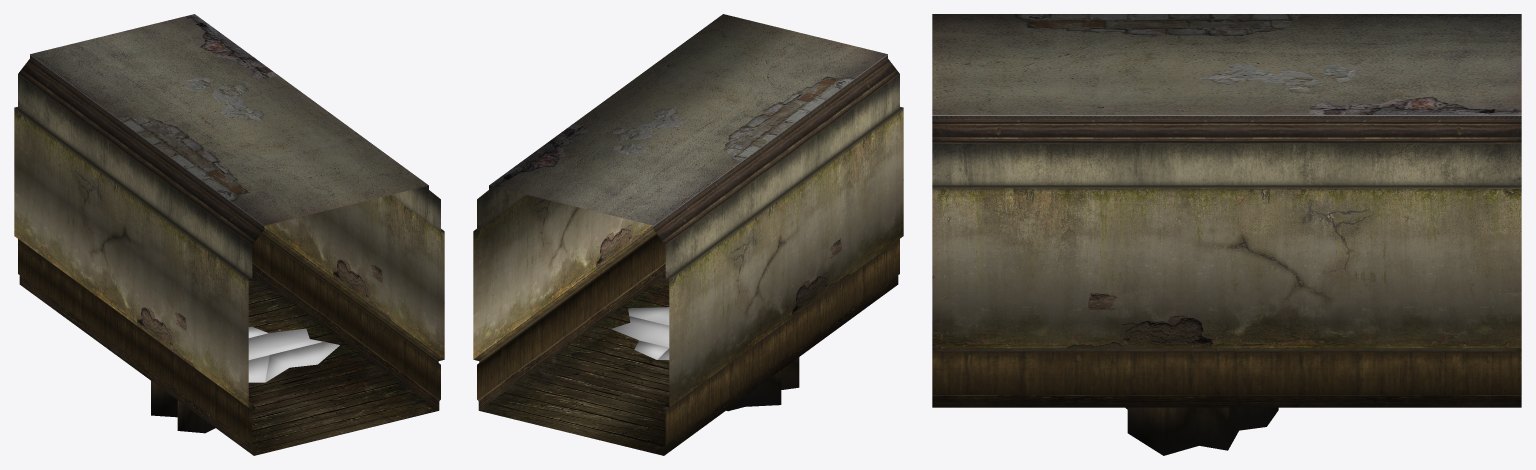
File: passage-hole.FBX
3 renders of one model, left to right at view 1: azimuth 30°, elevation 25°; view 2: azimuth 150°, elevation 25°; view 3: azimuth 270°, elevation 25°, orthographic. The views are drawn at different scales.
Visible parts, largest first — view 1: passage-hole, flour01, flour03, flour02; view 2: passage-hole, flour03, flour01; view 3: passage-hole.
Part boxes in pixels (<box>): passage-hole: <box>14,14,444,455</box>; flour01: <box>265,341,339,382</box>; flour03: <box>248,328,323,359</box>; flour02: <box>248,355,269,382</box>; passage-hole: <box>473,14,903,455</box>; flour03: <box>611,316,669,347</box>; flour01: <box>628,307,669,325</box>; passage-hole: <box>932,14,1521,455</box>.
Size of the model in its own units: 70.23 by 92.31 by 145.
